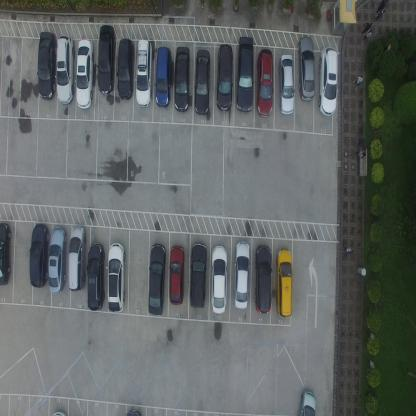car: (147, 244, 166, 319), (96, 25, 116, 96), (318, 46, 338, 116), (236, 35, 254, 112), (29, 223, 50, 289), (47, 226, 67, 293), (37, 31, 56, 101), (76, 38, 94, 110), (56, 32, 74, 104), (275, 246, 293, 318), (254, 243, 272, 315), (107, 242, 125, 314), (256, 47, 274, 118), (135, 38, 153, 108), (86, 241, 104, 311), (215, 44, 233, 113), (68, 223, 86, 292), (173, 45, 191, 113), (297, 35, 315, 103), (189, 242, 207, 309), (210, 244, 227, 314), (154, 46, 172, 109), (116, 38, 134, 101), (234, 240, 250, 310), (278, 52, 295, 116), (194, 48, 210, 115), (168, 245, 185, 305), (0, 221, 12, 286), (297, 389, 317, 415)
